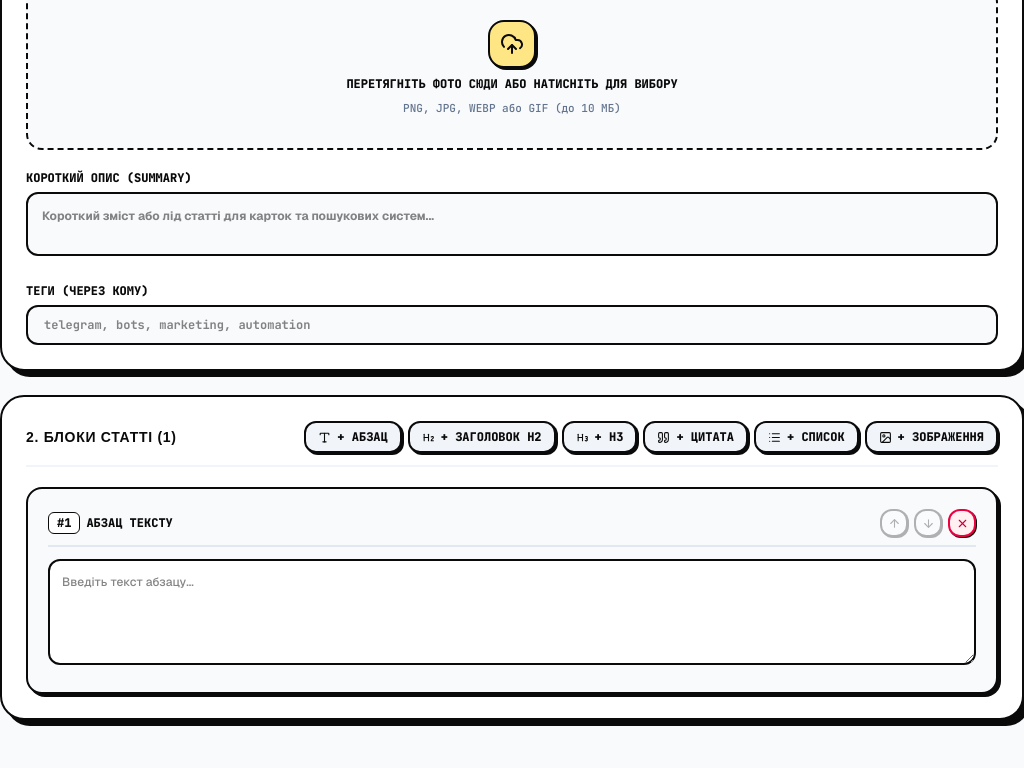
Test: BlogEditorView › adds a new block when block buttons are clicked
(page scrolled)
What coordinates should you click on to do the following:
click the button "+ Цитата"
I would click on:
 (696, 437)
Its box is [643,421,748,453].
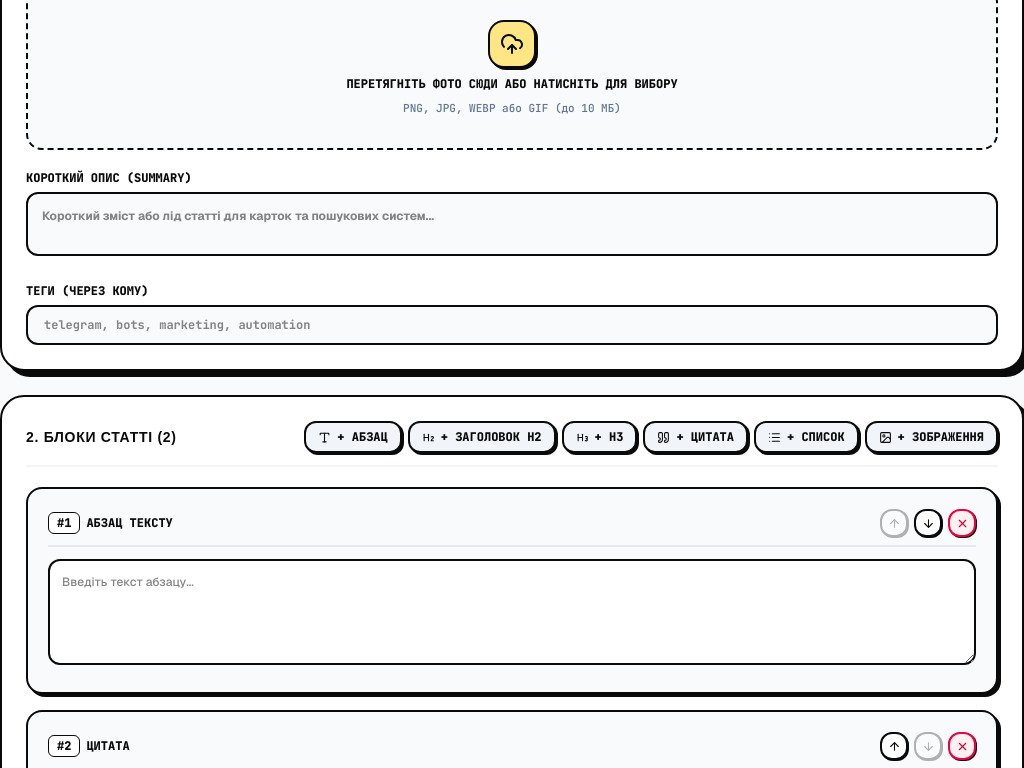
Now the text "Цитата" is shown, box [86,738,130,754]
